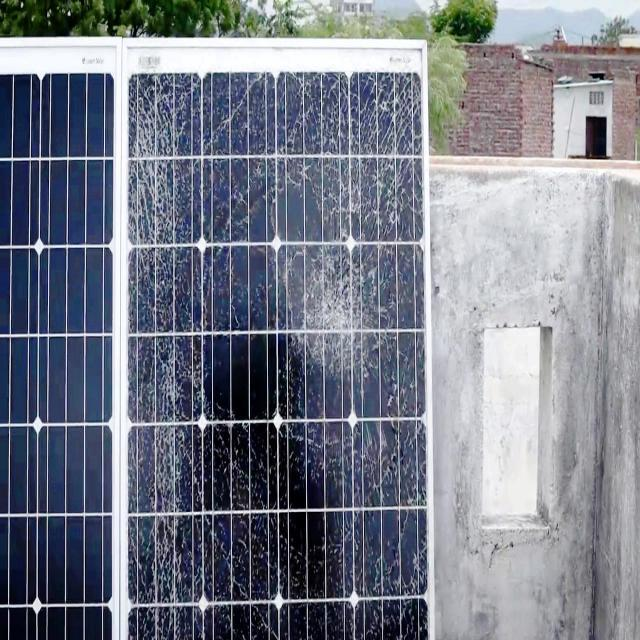faulty: (122, 57, 432, 639)
no faulty: (0, 54, 115, 640)
